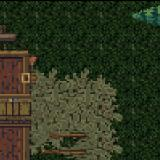Interaction: (49, 126, 92, 160)
Obstacle: (0, 0, 72, 160)
